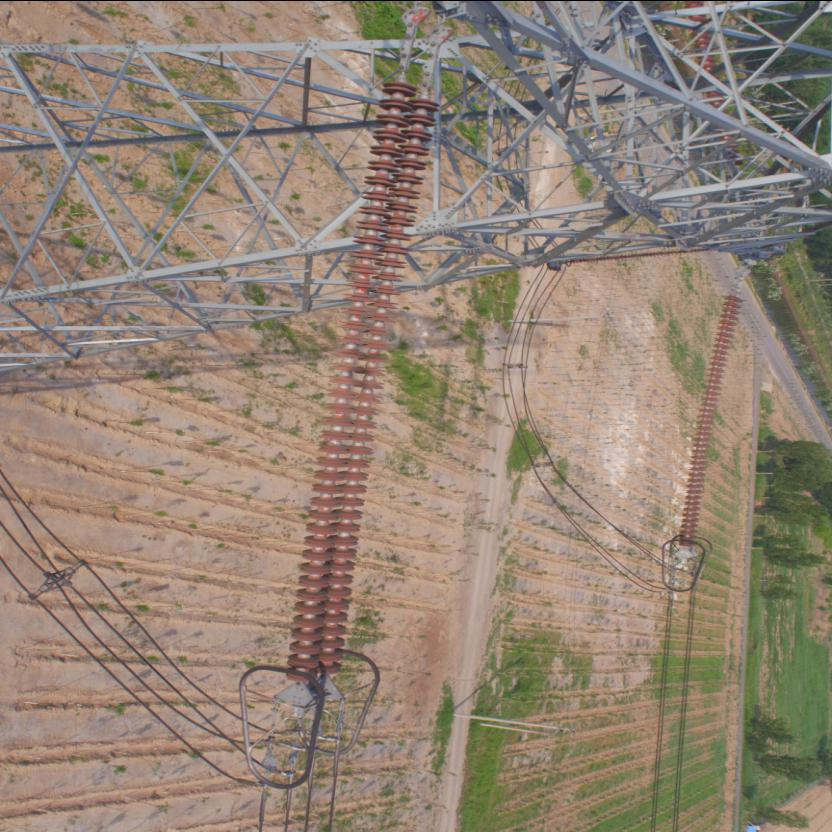insulator: (283, 47, 447, 692), (674, 280, 750, 550)
